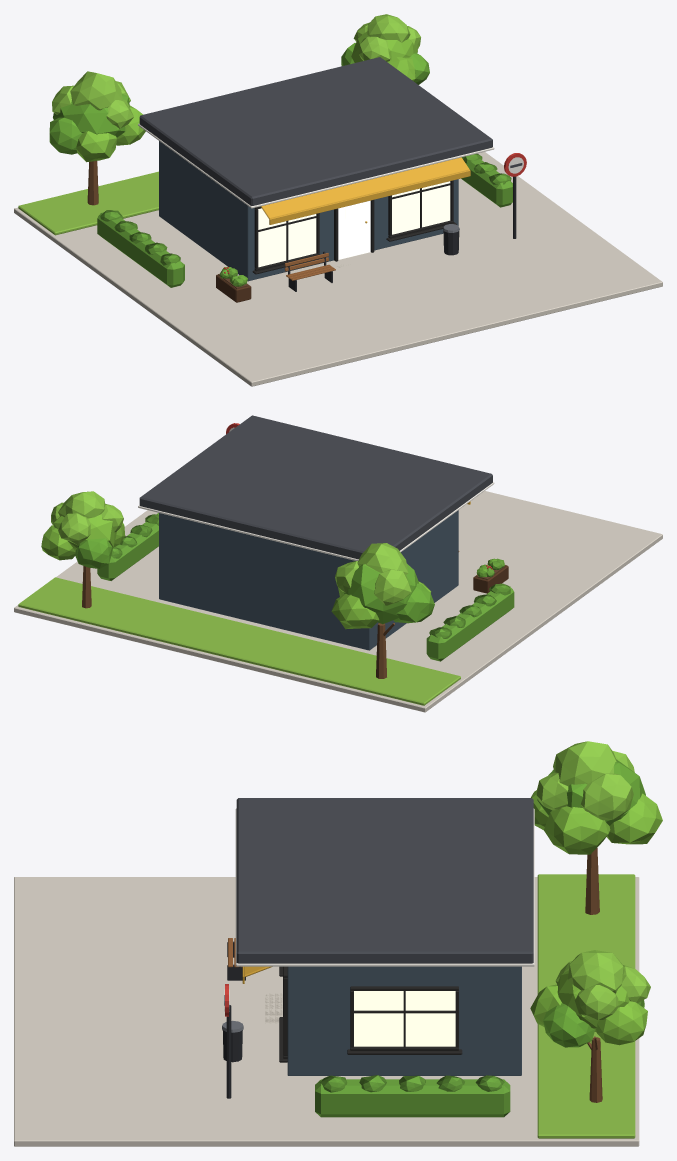
The model's file is lote_loja.glb.
3 renders of one model, top to bottom at view 1: azimuth 30°, elevation 25°; view 2: azimuth 150°, elevation 25°; view 3: azimuth 270°, elevation 25°, orthographic. The views are drawn at different scales.
Parts seen in each view (by area): view 1: lote_loja_00, lote_loja_02, lote_loja_01, lote_loja_17, lote_loja_04, lote_loja_20, lote_loja_08, lote_loja_23, lote_loja_18, lote_loja_22, lote_loja_05, lote_loja_06 (+3 smaller); view 2: lote_loja_02, lote_loja_00, lote_loja_01, lote_loja_20, lote_loja_17, lote_loja_23, lote_loja_18, lote_loja_22, lote_loja_21, lote_loja_03, lote_loja_15; view 3: lote_loja_00, lote_loja_02, lote_loja_01, lote_loja_20, lote_loja_23, lote_loja_17, lote_loja_22, lote_loja_04, lote_loja_05, lote_loja_18, lote_loja_03, lote_loja_21 (+1 smaller).
Part boxes in pixels (x1=…): lote_loja_00: x1=14, y1=152, x2=662, y2=386; lote_loja_02: x1=139, y1=57, x2=492, y2=205; lote_loja_01: x1=159, y1=141, x2=458, y2=281; lote_loja_17: x1=97, y1=153, x2=512, y2=287; lote_loja_04: x1=258, y1=181, x2=450, y2=267; lote_loja_20: x1=18, y1=171, x2=158, y2=235; lote_loja_08: x1=261, y1=157, x2=470, y2=224; lote_loja_23: x1=52, y1=14, x2=420, y2=128; lote_loja_18: x1=49, y1=43, x2=429, y2=284; lote_loja_22: x1=76, y1=31, x2=417, y2=162; lote_loja_05: x1=252, y1=180, x2=456, y2=274; lote_loja_06: x1=338, y1=200, x2=370, y2=259; lote_loja_02: x1=139, y1=415, x2=492, y2=559; lote_loja_00: x1=14, y1=491, x2=662, y2=712; lote_loja_01: x1=159, y1=510, x2=458, y2=650; lote_loja_20: x1=18, y1=577, x2=460, y2=705; lote_loja_17: x1=97, y1=513, x2=514, y2=661; lote_loja_23: x1=51, y1=491, x2=411, y2=605; lote_loja_18: x1=75, y1=538, x2=496, y2=624; lote_loja_22: x1=41, y1=514, x2=431, y2=629; lote_loja_21: x1=82, y1=566, x2=394, y2=678; lote_loja_03: x1=138, y1=482, x2=494, y2=561; lote_loja_15: x1=473, y1=565, x2=508, y2=593; lote_loja_00: x1=14, y1=877, x2=639, y2=1146; lote_loja_02: x1=236, y1=798, x2=533, y2=963; lote_loja_01: x1=287, y1=966, x2=521, y2=1075; lote_loja_20: x1=537, y1=874, x2=635, y2=1138; lote_loja_23: x1=536, y1=741, x2=650, y2=1020; lote_loja_17: x1=315, y1=1075, x2=510, y2=1117; lote_loja_22: x1=530, y1=790, x2=662, y2=1045; lote_loja_04: x1=354, y1=991, x2=455, y2=1046; lote_loja_05: x1=279, y1=966, x2=462, y2=1062; lote_loja_18: x1=537, y1=759, x2=645, y2=1047; lote_loja_03: x1=235, y1=808, x2=534, y2=966; lote_loja_21: x1=585, y1=848, x2=602, y2=1102.
Bounding box in the file's own units: 16 × 5.15 × 16.61.
